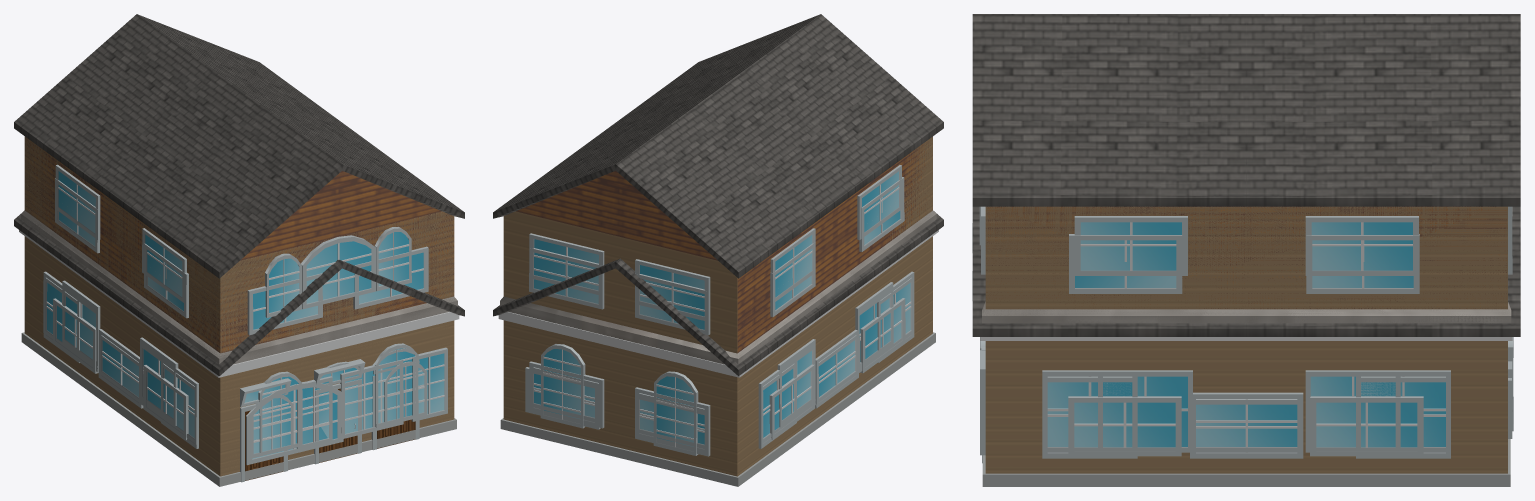
Rendered from ModularHouses_01.fbx.
3 views of the same model, side by side, from view 1: azimuth 30°, elevation 25°; view 2: azimuth 150°, elevation 25°; view 3: azimuth 270°, elevation 25° (orthographic). The views are drawn at different scales.
Parts seen in each view (by area): view 1: Roof_H_01, Base_H_028, F2_H_07, Base_H_027, Base_H_026, Base_H_025, Roof_H_02, Roof_H_03, Base_H_01, Base_H_013; view 2: Roof_H_01, Base_H_028, F2_H_07, Roof_H_02, Base_H_027, Roof_H_03, Base_H_026, Base_H_025, Base_H_01, Base_H_013; view 3: Roof_H_01, Base_H_028, F2_H_07, Base_H_027, Base_H_026, Roof_H_02, Roof_H_03, Base_H_025.
Part boxes in pixels (x1=…): Roof_H_01: x1=14, y1=14, x2=464, y2=364; Base_H_028: x1=21, y1=236, x2=456, y2=486; F2_H_07: x1=19, y1=136, x2=459, y2=377; Base_H_027: x1=43, y1=271, x2=456, y2=485; Base_H_026: x1=53, y1=298, x2=454, y2=475; Base_H_025: x1=62, y1=291, x2=456, y2=485; Roof_H_02: x1=14, y1=214, x2=464, y2=376; Roof_H_03: x1=21, y1=210, x2=457, y2=364; Base_H_01: x1=62, y1=280, x2=178, y2=424; Base_H_013: x1=62, y1=286, x2=178, y2=427; Roof_H_01: x1=493, y1=14, x2=943, y2=357; Base_H_028: x1=500, y1=236, x2=935, y2=486; F2_H_07: x1=498, y1=136, x2=938, y2=377; Roof_H_02: x1=493, y1=211, x2=943, y2=376; Base_H_027: x1=529, y1=271, x2=934, y2=454; Roof_H_03: x1=500, y1=211, x2=936, y2=364; Base_H_026: x1=525, y1=298, x2=905, y2=456; Base_H_025: x1=529, y1=291, x2=891, y2=449; Base_H_01: x1=777, y1=282, x2=893, y2=425; Base_H_013: x1=777, y1=287, x2=893, y2=428; Roof_H_01: x1=972, y1=14, x2=1520, y2=323; Base_H_028: x1=972, y1=271, x2=1513, y2=486; F2_H_07: x1=980, y1=206, x2=1512, y2=340; Base_H_027: x1=972, y1=223, x2=1450, y2=473; Base_H_026: x1=1068, y1=378, x2=1512, y2=456; Roof_H_02: x1=972, y1=206, x2=1520, y2=336; Roof_H_03: x1=982, y1=302, x2=1511, y2=323; Base_H_025: x1=981, y1=347, x2=1512, y2=472.
Size of the model in its own units: 43.45 by 50.23 by 62.95.
